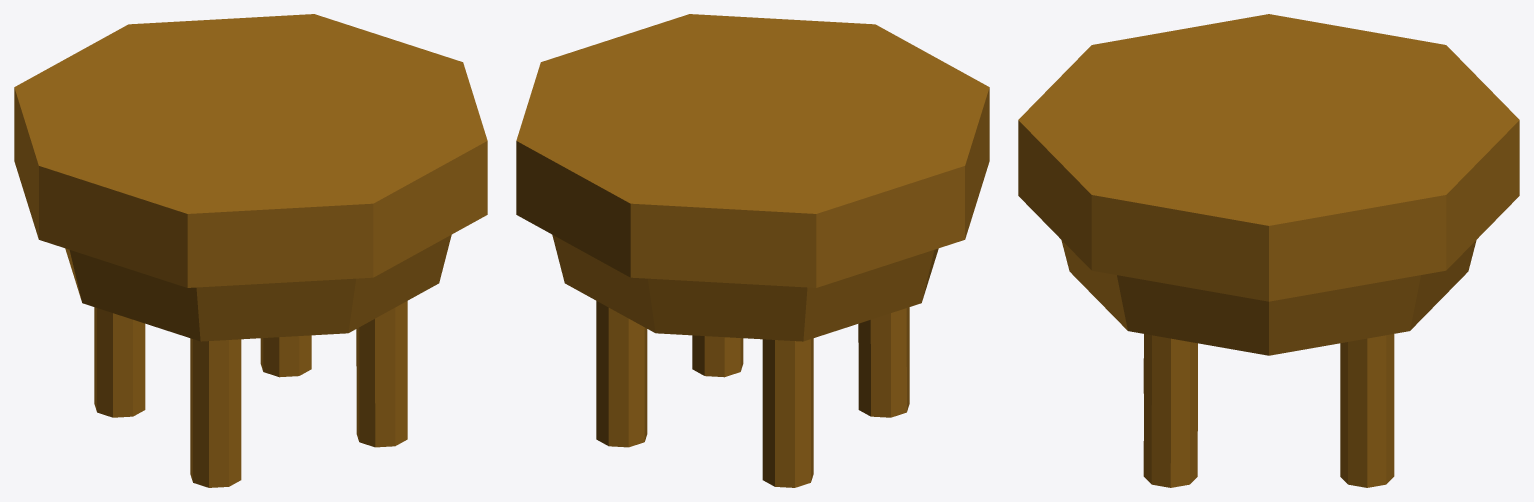
File: bench.glb
3 views of the same model, side by side, from view 1: azimuth 30°, elevation 25°; view 2: azimuth 150°, elevation 25°; view 3: azimuth 270°, elevation 25° (orthographic). The views are drawn at different scales.
Visible parts, largest first — view 1: bench; view 2: bench; view 3: bench.
Boxes of the visible parts, bbox=[...] form: bench: bbox=[14, 14, 487, 487]; bench: bbox=[516, 14, 989, 487]; bench: bbox=[1018, 14, 1519, 487].
Bounding box in the file's own units: 1.63 × 1.13 × 1.63.
Materials: 1 (1 with a texture image).
